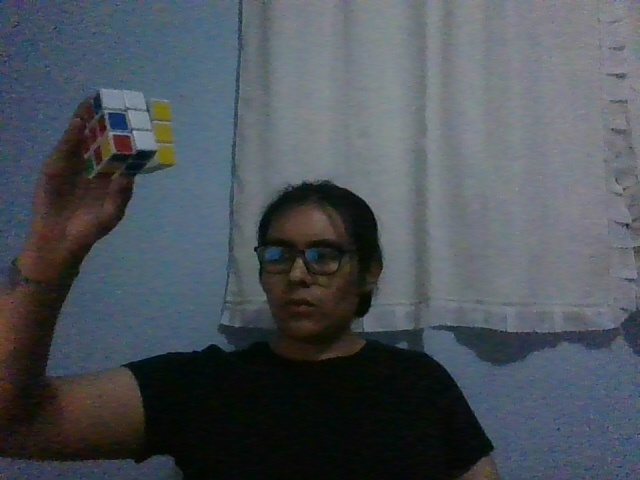rubik: (78, 88, 177, 179)
